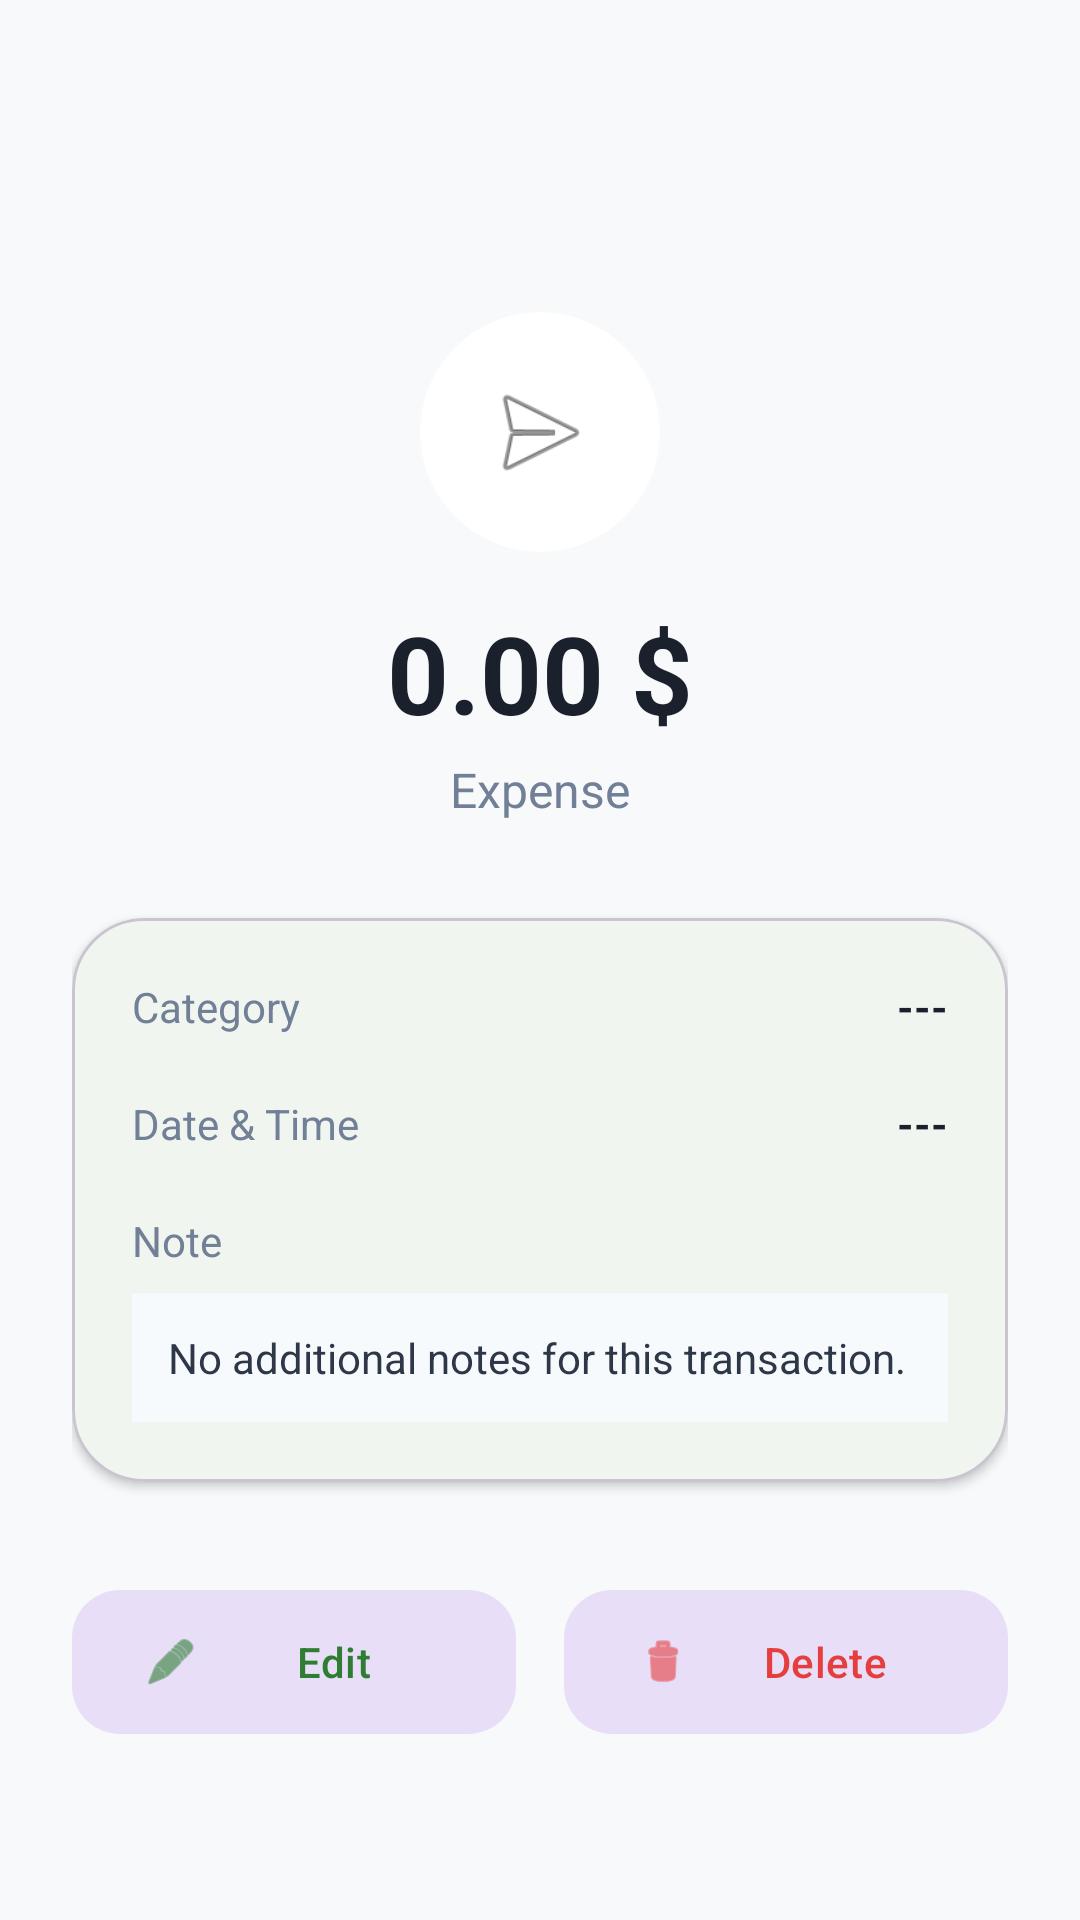

Screen size 1080px x 1920px. Icon name, then its center in pixels as (x=x, y=y):
send: (x=541, y=433)
